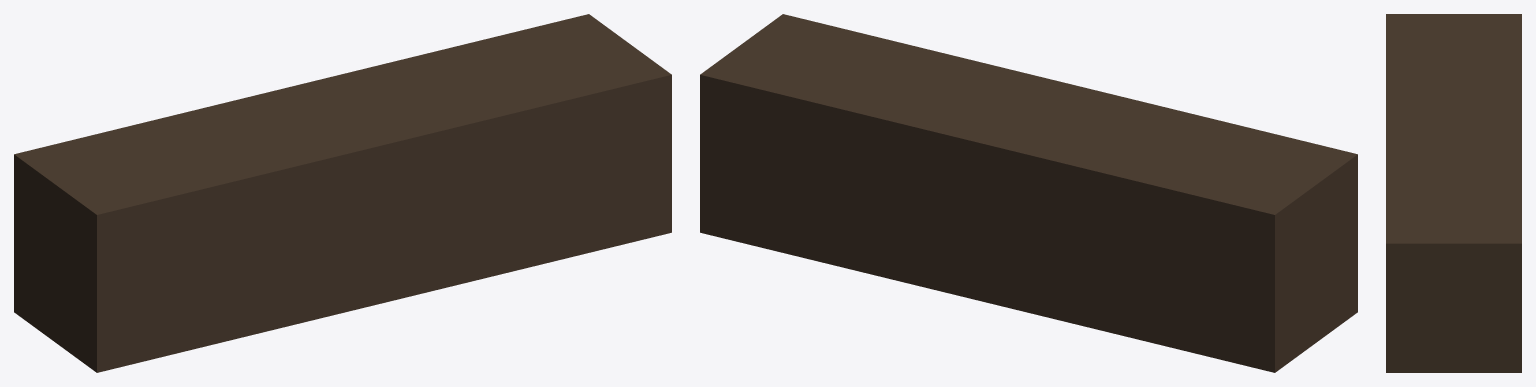
Rendered from tv-console.gltf.
3 views of the same model, side by side, from view 1: azimuth 30°, elevation 25°; view 2: azimuth 150°, elevation 25°; view 3: azimuth 270°, elevation 25° (orthographic). The views are drawn at different scales.
Size of the model in its own units: 1.6 by 0.42 by 0.4.
